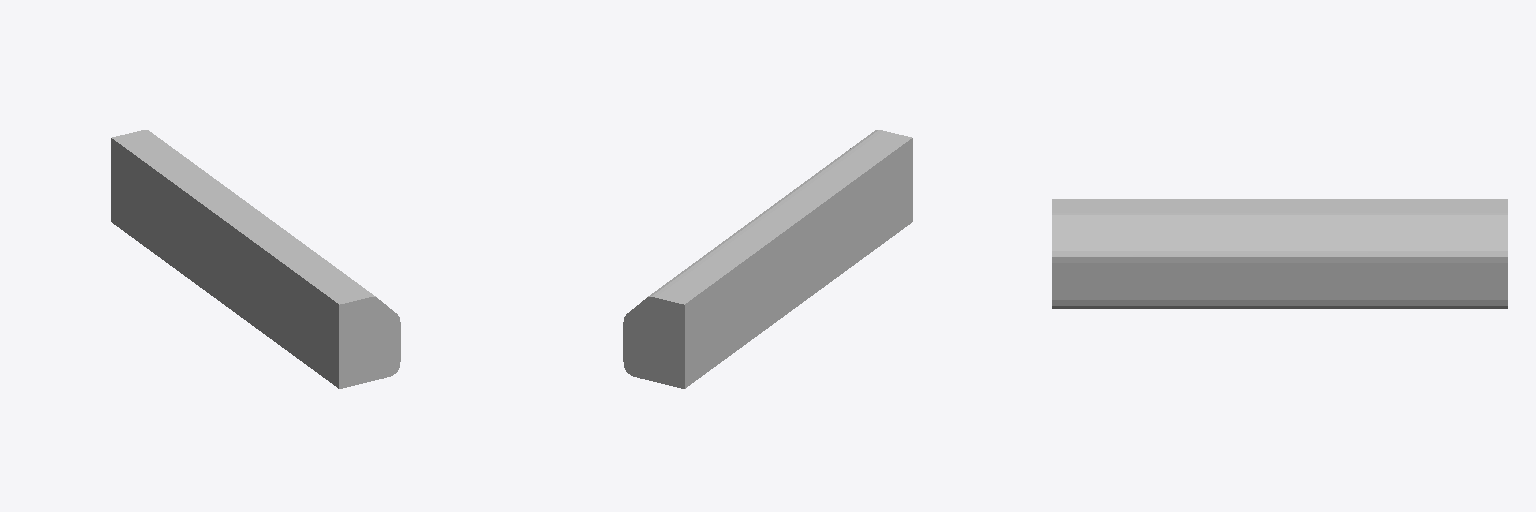
File: block_2_collision_1.obj
The picture shows the model from 3 angles: view 1: azimuth 30°, elevation 25°; view 2: azimuth 150°, elevation 25°; view 3: azimuth 270°, elevation 25°; orthographic projection.
Bounding box in the file's own units: 0.0165 × 0.0218 × 0.1064.